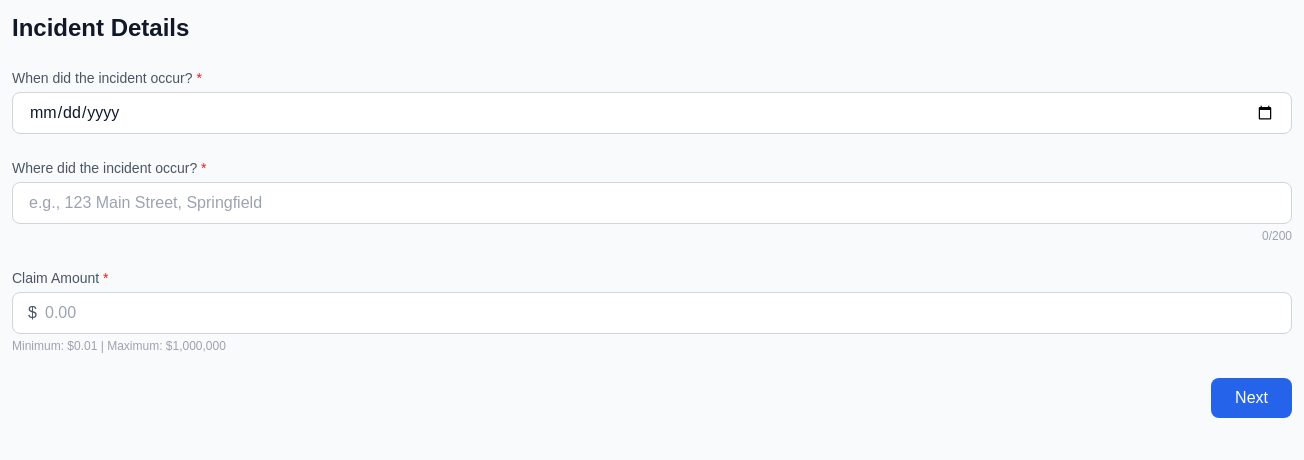
Test: WizardStep1 › Field Validation › should show error for claim amount below minimum
In the number field labelled "Claim Amount *": [652, 313] box [12, 292, 1292, 334], type "0"
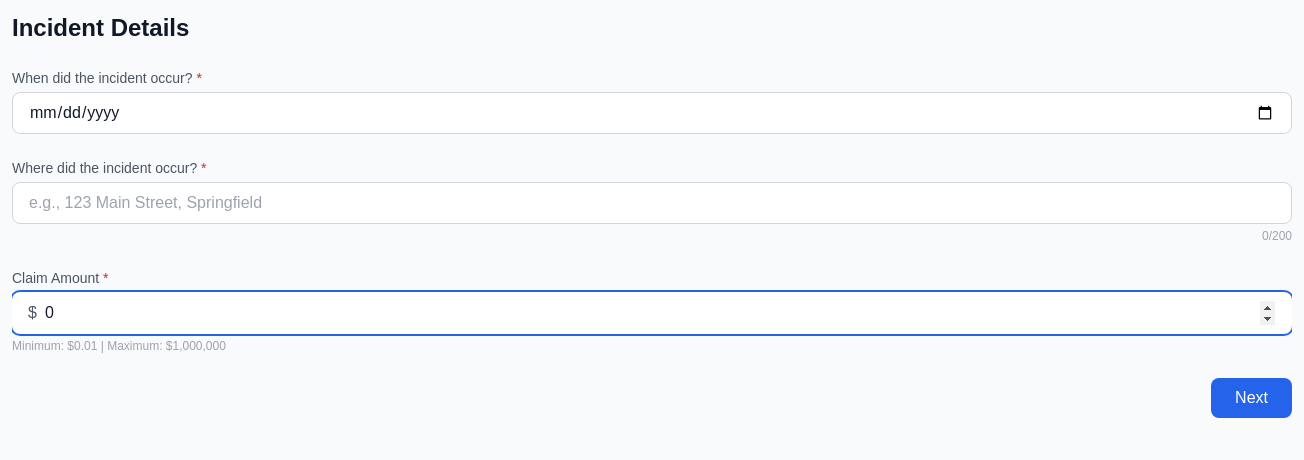
Press Tab
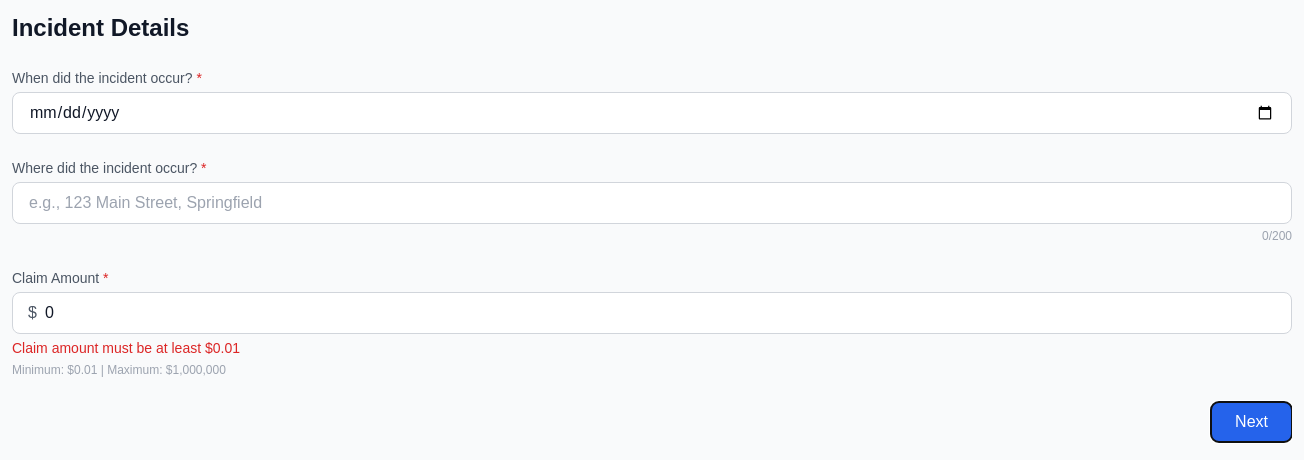
Result: the text "Claim amount must be at least $0.01" is shown at [12, 340, 240, 356]
